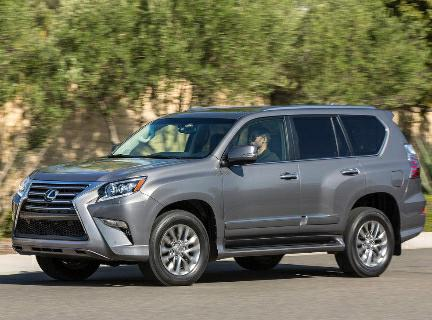雷克萨斯-GX: (8, 102, 430, 291)
